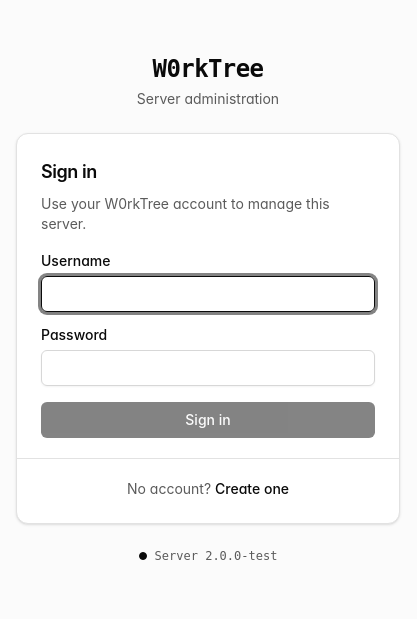
Scenario: login flow › shows an error for invalid credentials
Step 1. Type "alice" into the field labelled "Username" → (208, 294), box [41,276,375,312]
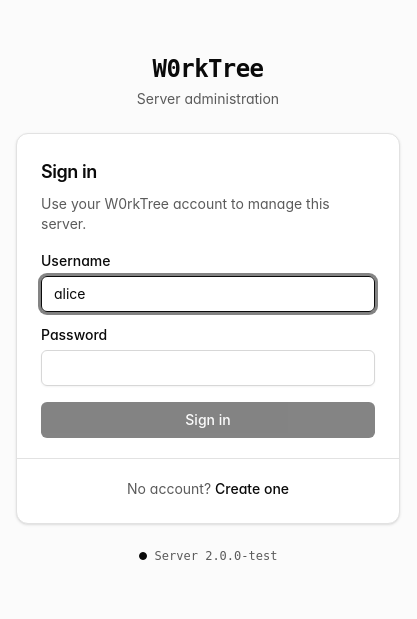
Step 2. Type "wrong" into the password field labelled "Password" → (208, 368), box [41,350,375,386]
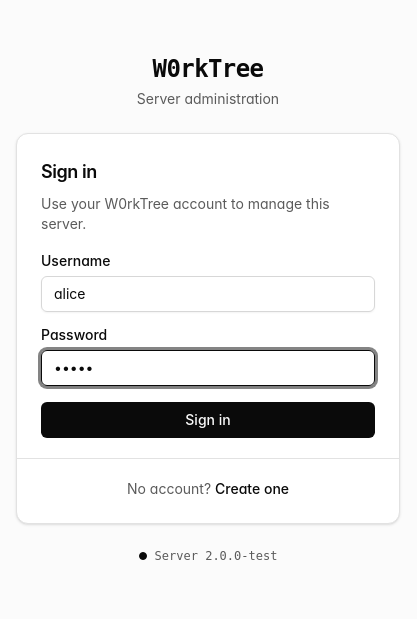
Step 3. Click the button "Sign in" → (208, 420), box [41,402,375,438]
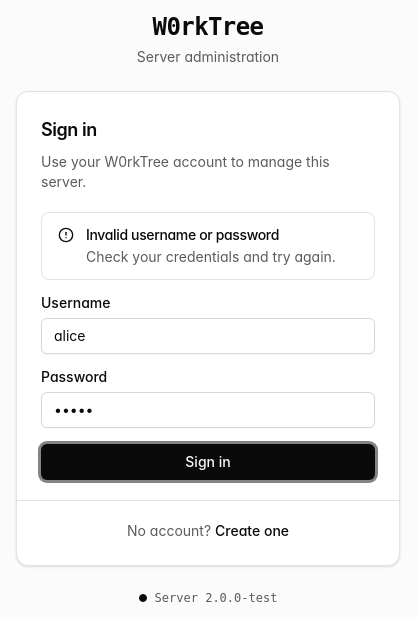
Expected: the message "Invalid username or password Check your credentials and try again." is shown, [41,212,375,280]
